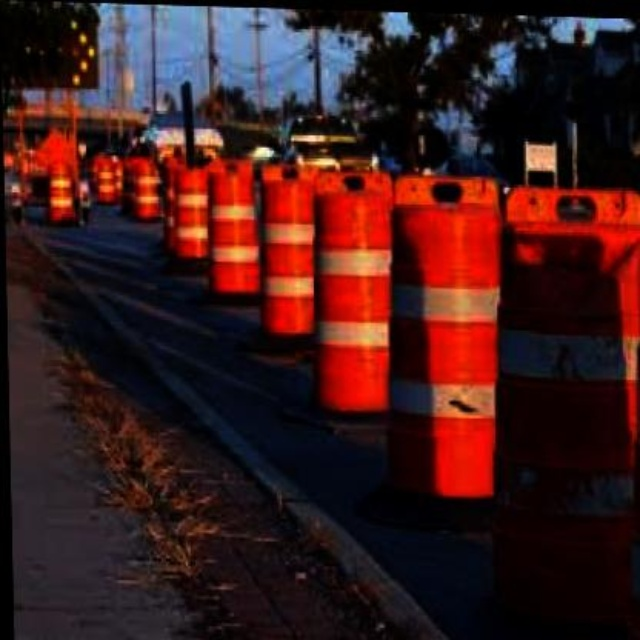obstacle: (472, 194, 640, 618), (374, 147, 505, 499), (302, 126, 393, 433), (246, 145, 316, 339), (197, 147, 252, 305), (169, 156, 208, 266), (132, 162, 165, 226)
